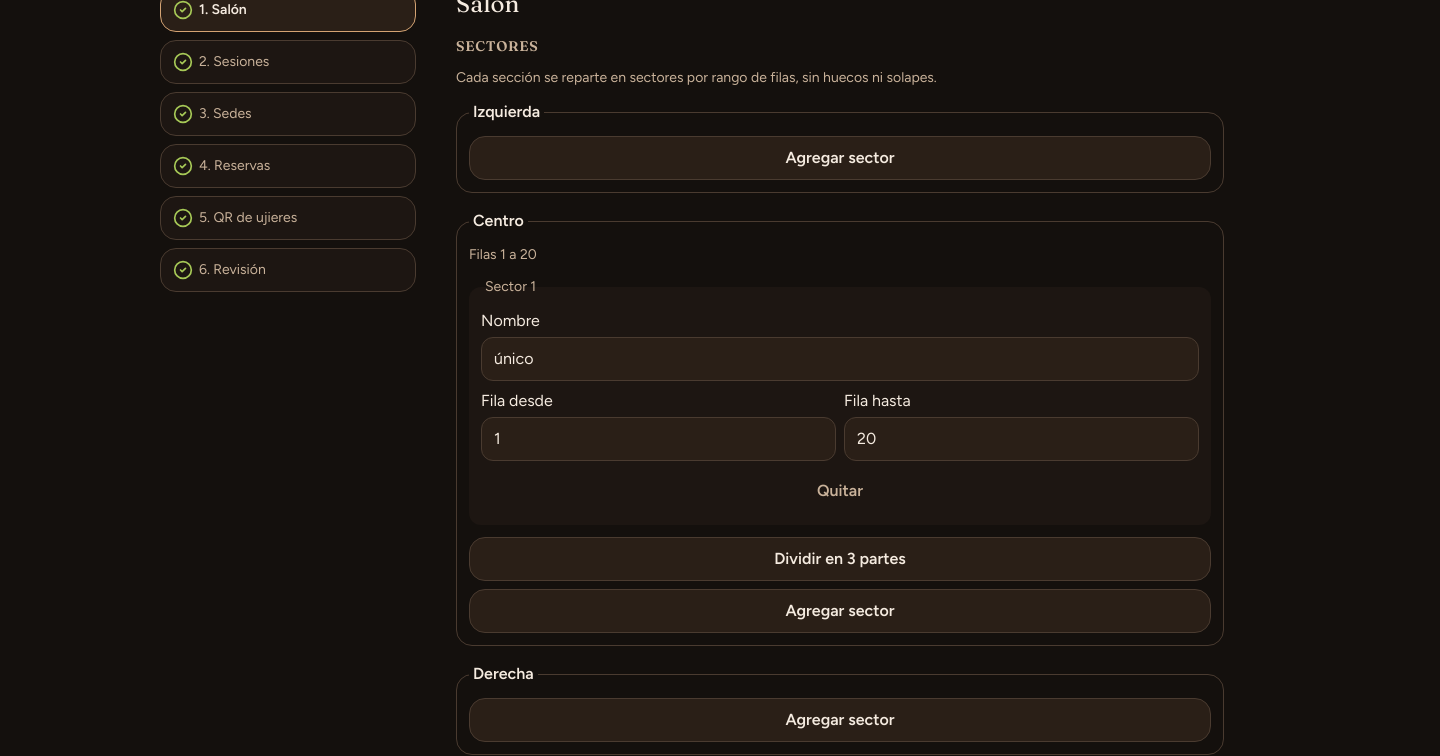
SalonPaso: sectores › guardar manda el JSON de todos los sectores y recarga los pasos
Expected: the field showing "único" is shown, [481, 337, 1199, 381]
Step 1. Click the button "Dividir en 3 partes" → (840, 559), box [469, 537, 1211, 581]
(page scrolled)
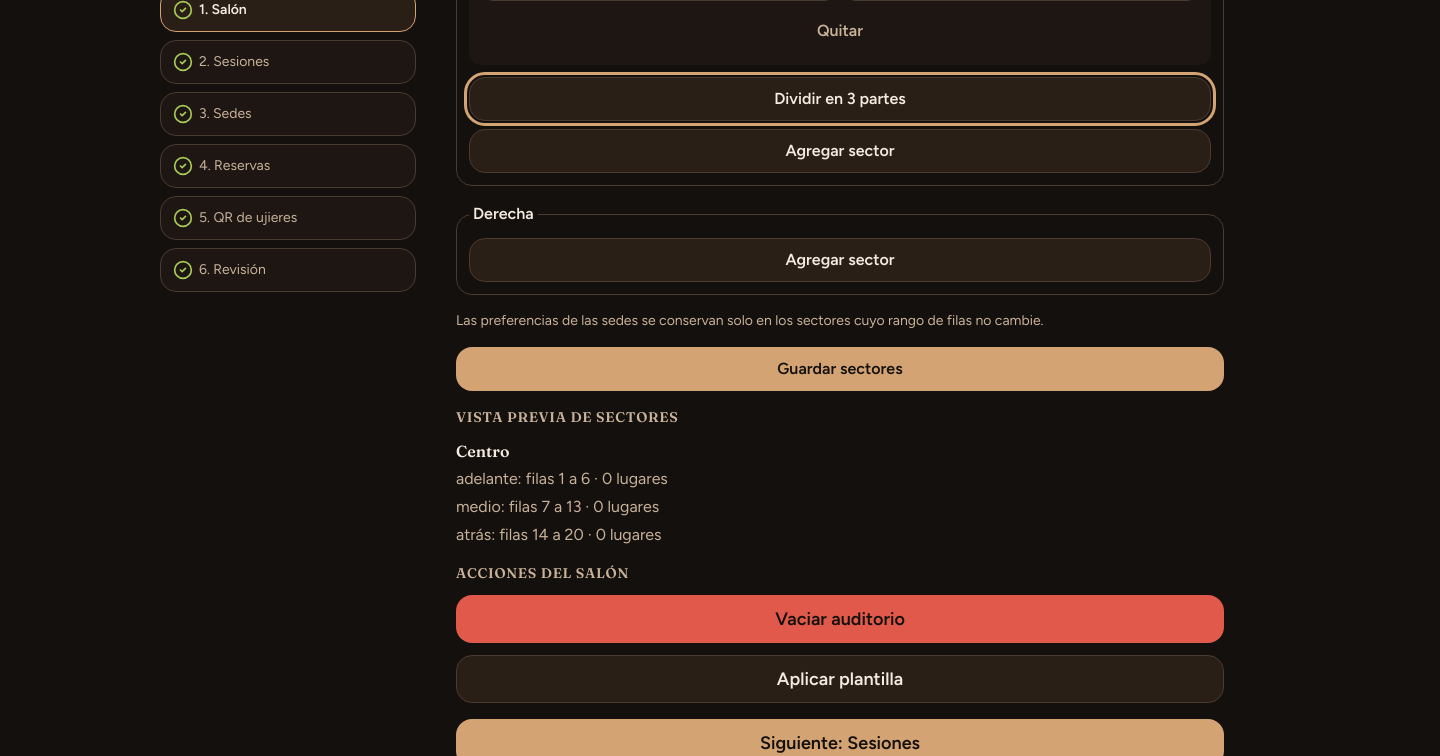
Step 2. Click the button "Guardar sectores" → (840, 369), box [456, 347, 1224, 391]
(page scrolled)
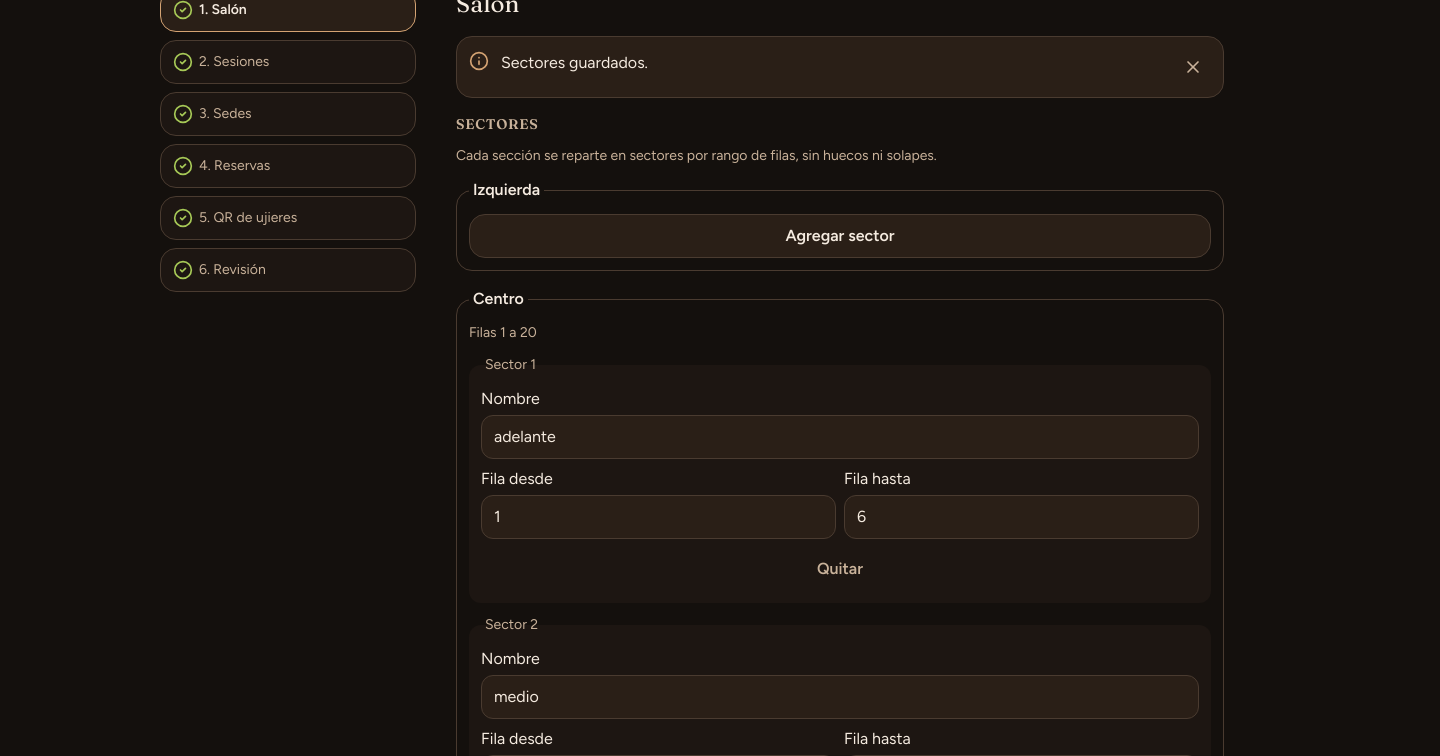
Expected: the text "Sectores guardados." is shown, [501, 53, 648, 72]
